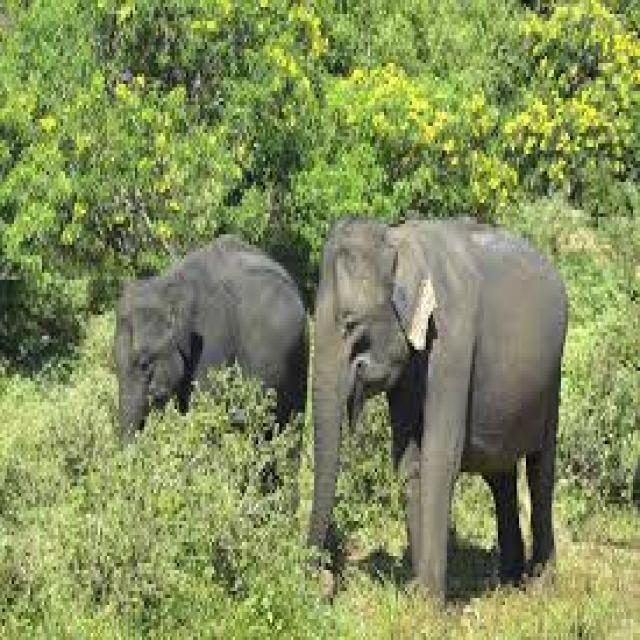Elephant: (305, 213, 568, 605), (109, 230, 311, 423)
